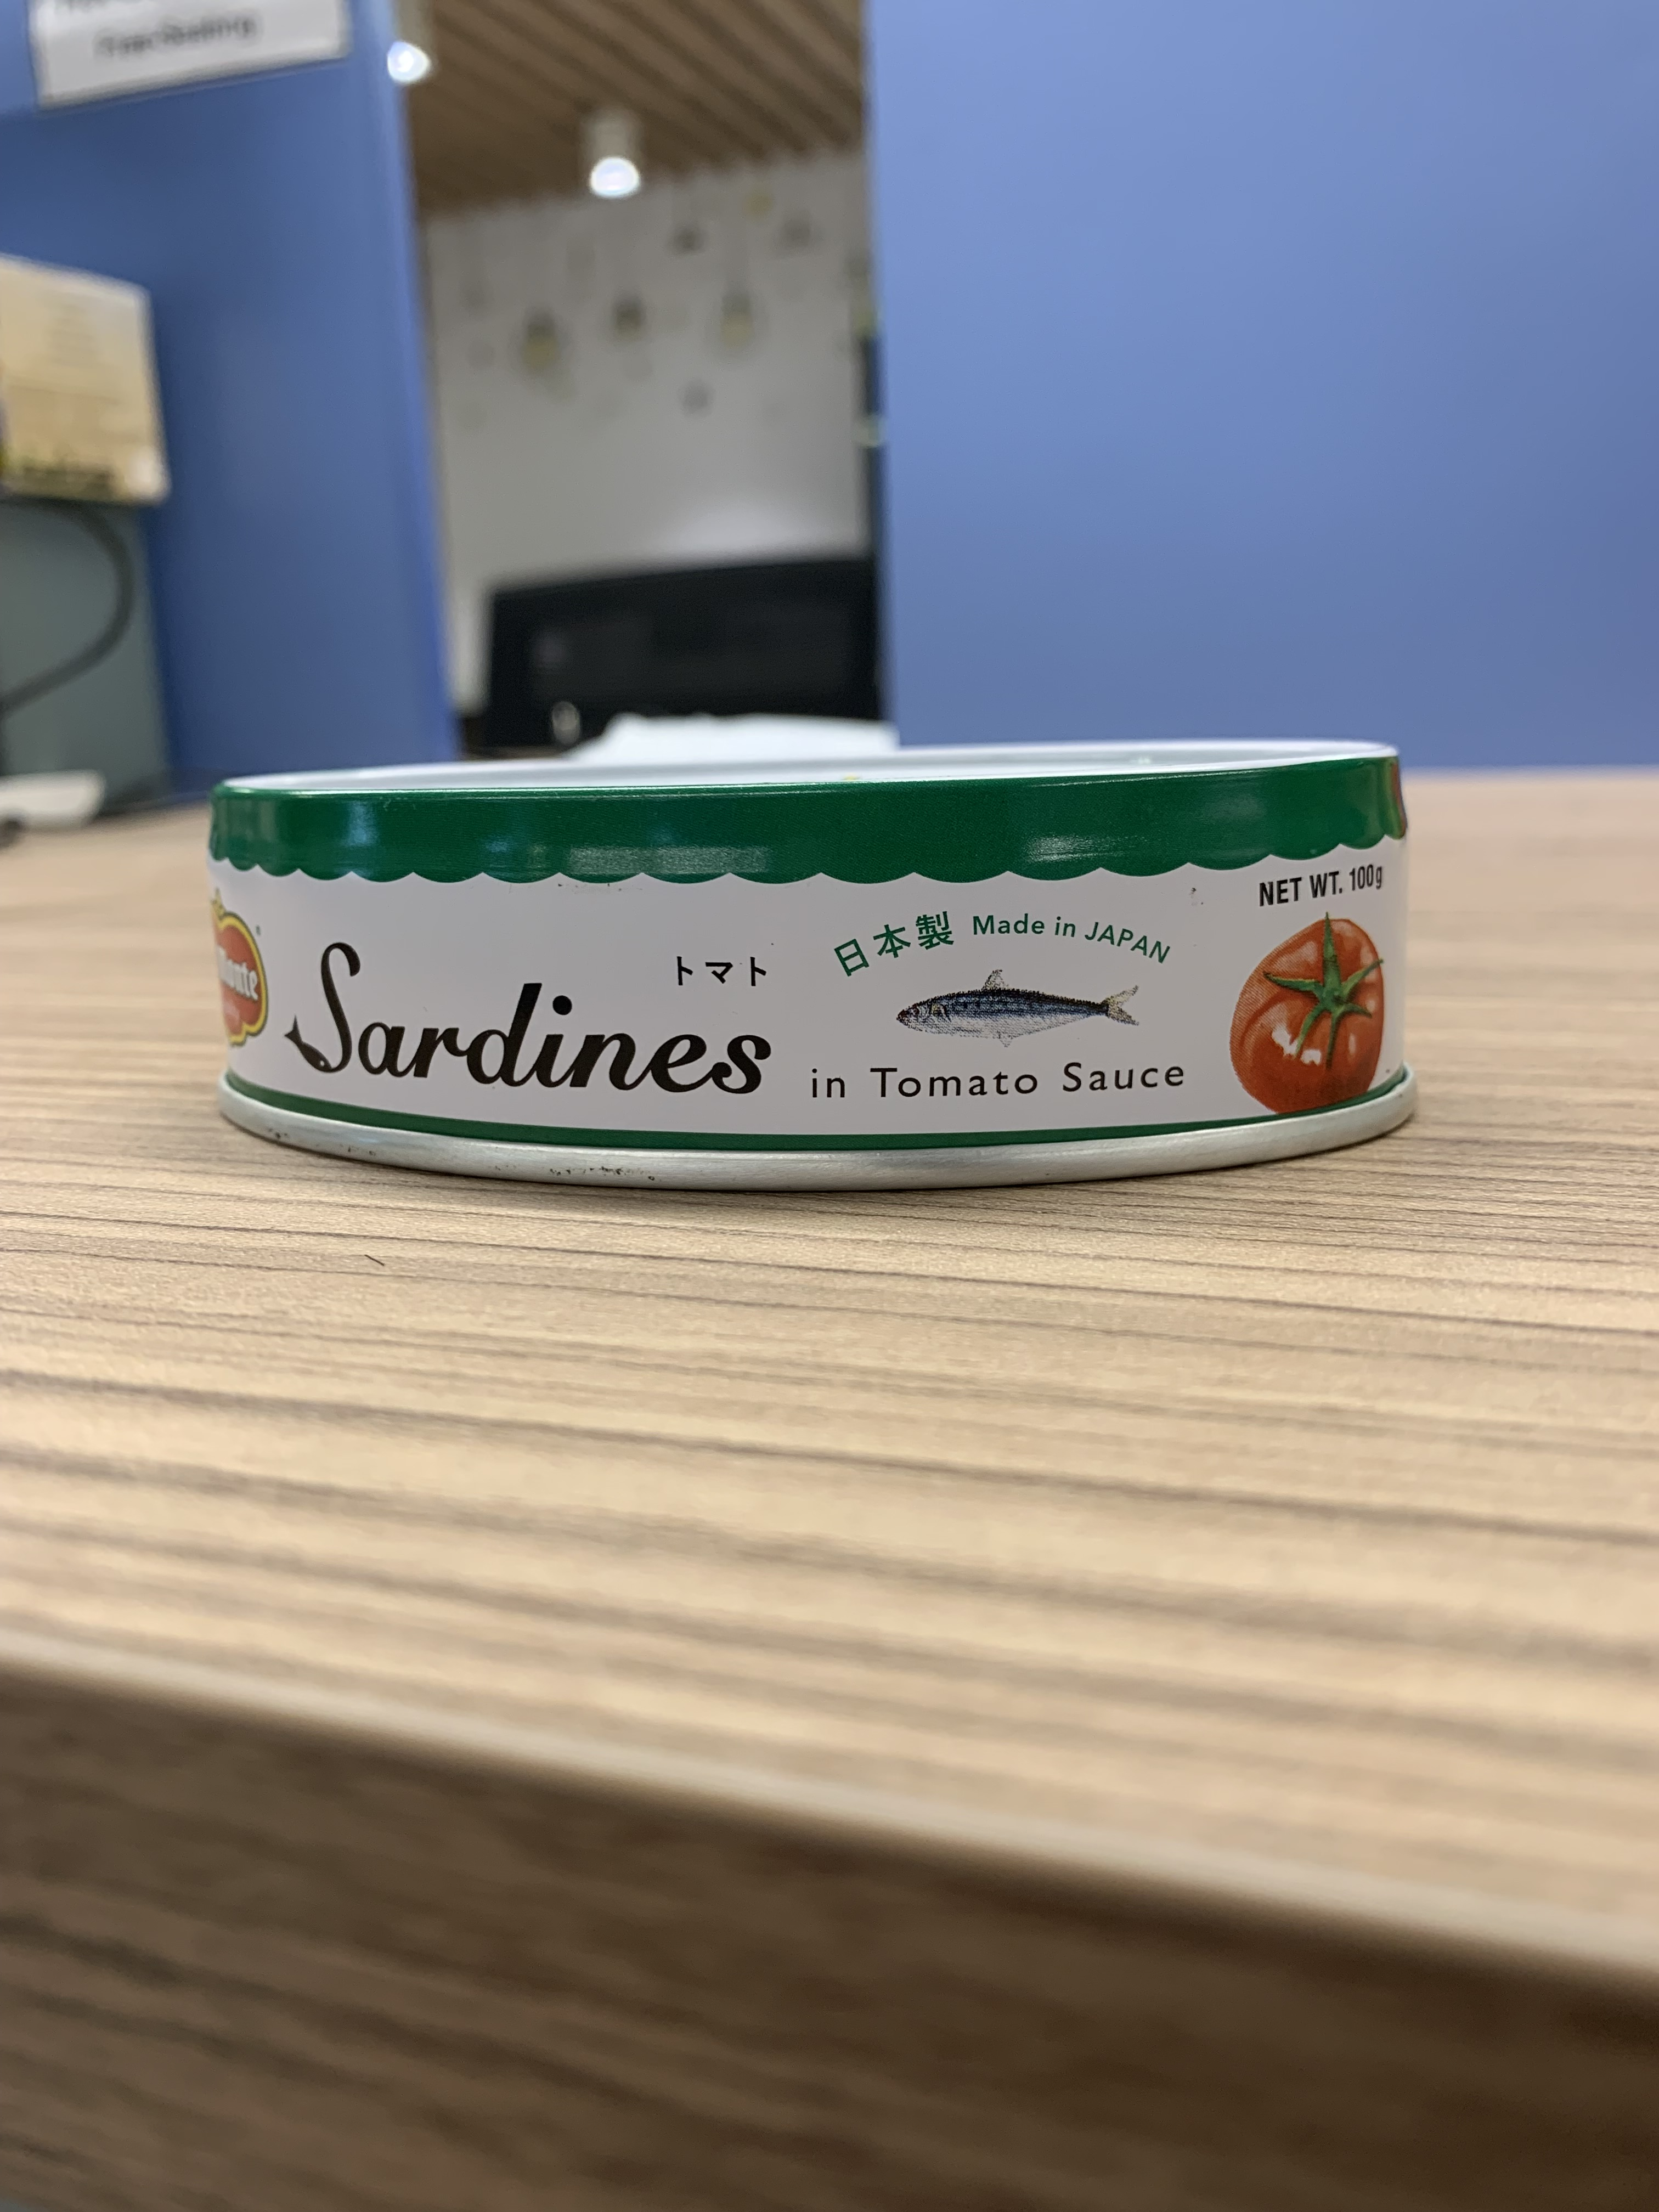sardines_100g-199g: (214, 815, 1408, 1134)
